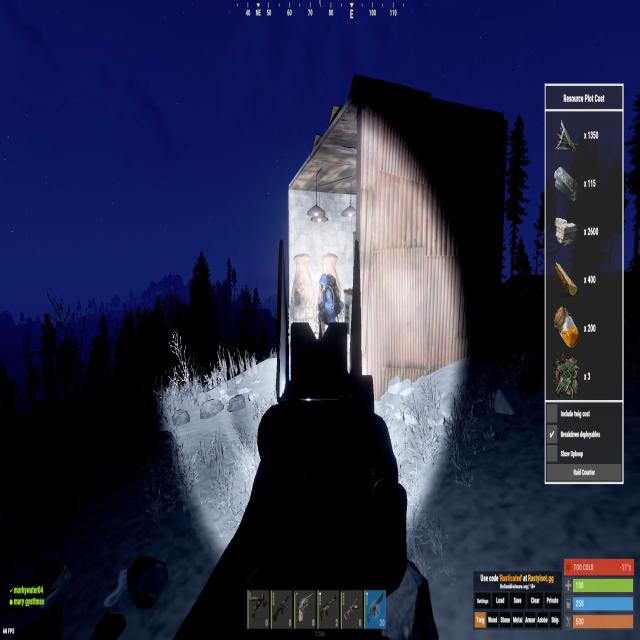Player: (318, 270, 342, 340)
